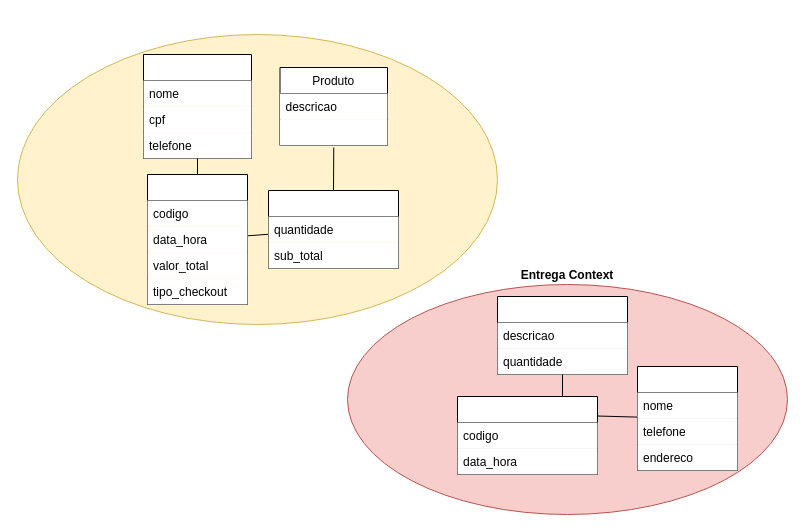
Image size: 805x532. Some labels were removed from this diagram. The shapes that lost their labels are listed below. From the top down, each one's box as (x1, y1, x2, y2) in pixels, then its label:
(142, 54, 252, 158): Cliente
(280, 119, 387, 145): valor
(16, 34, 498, 324): Pedido Context
(146, 174, 248, 304): Pedido
(268, 190, 398, 268): Item Pedido
(496, 296, 628, 374): Item Pacote
(456, 396, 598, 474): Pacote
(636, 366, 738, 470): Destinatario
